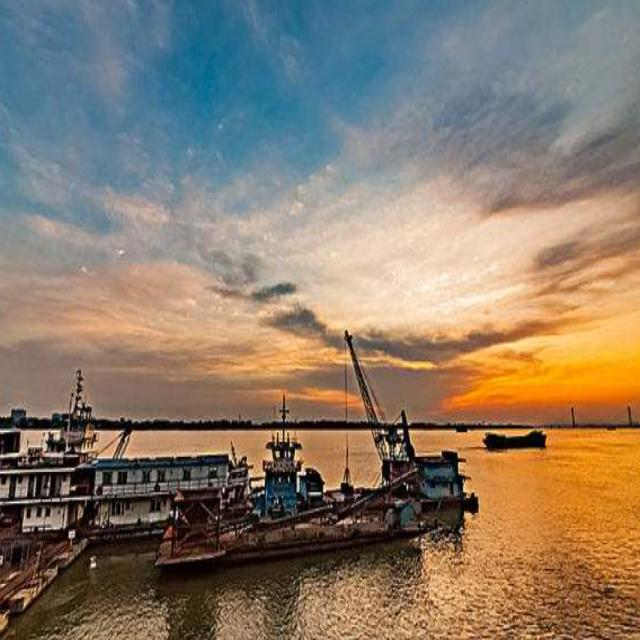cargoship: (163, 385, 479, 563)
